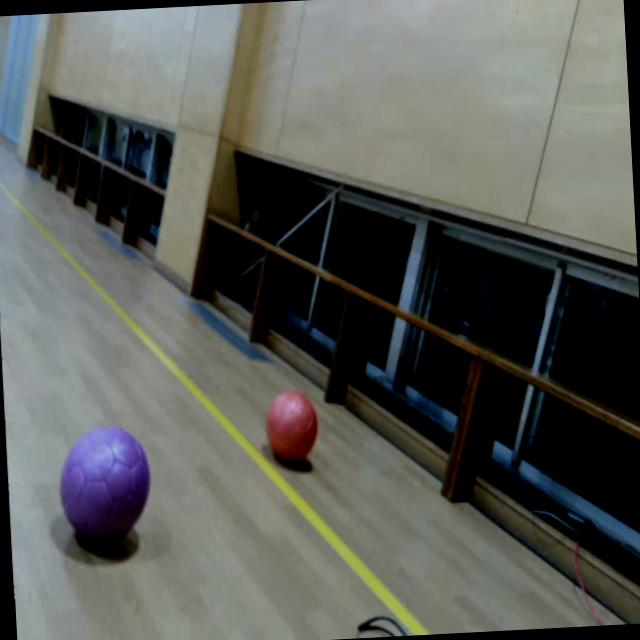purple_ball: (56, 424, 153, 550)
red_ball: (266, 387, 320, 462)
